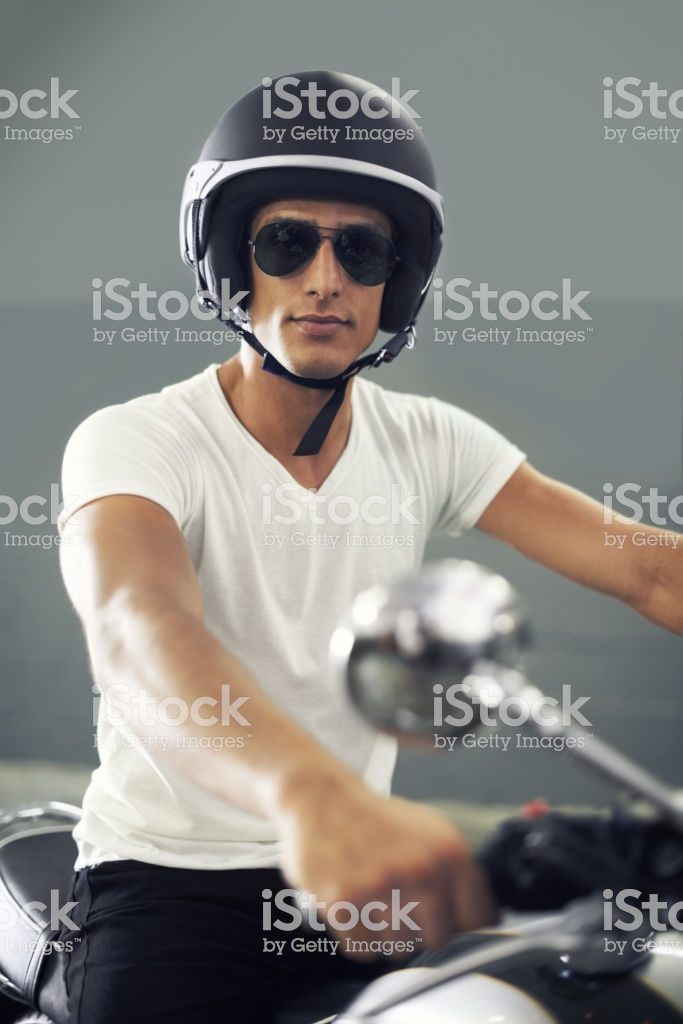helmet: (180, 64, 447, 293)
